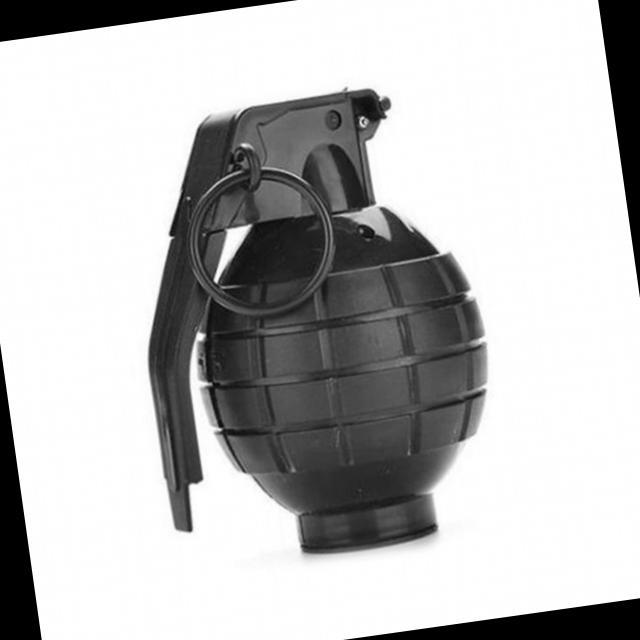grenade: (86, 75, 515, 588)
